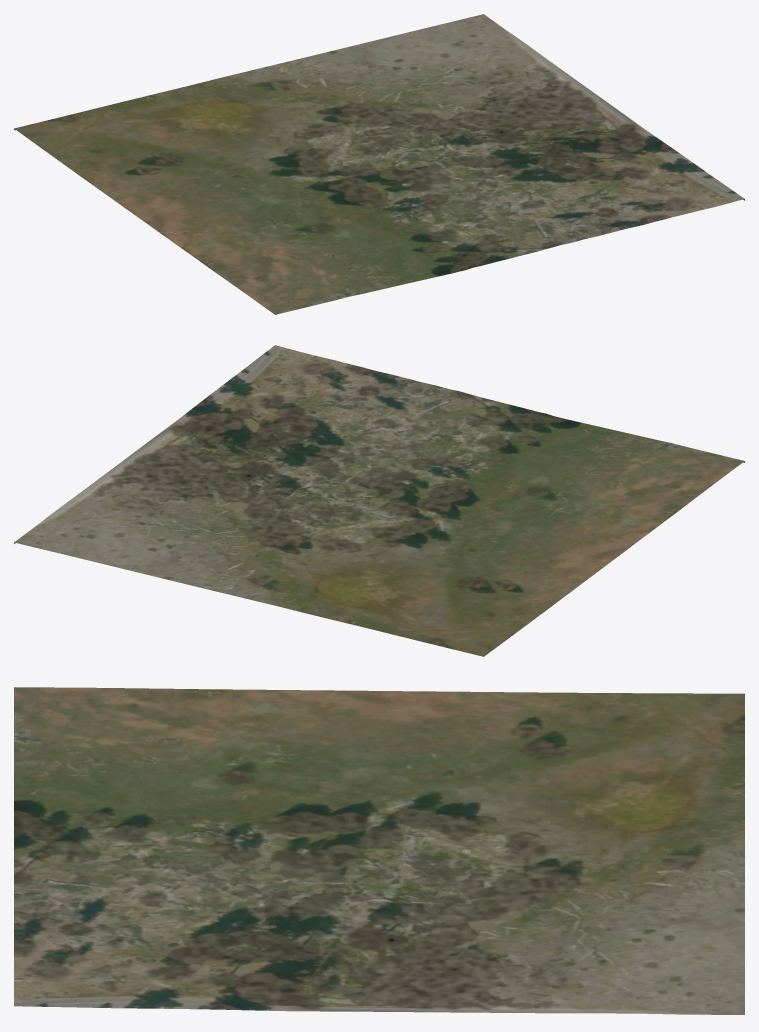
3 views of the same model, one above another, from view 1: azimuth 30°, elevation 25°; view 2: azimuth 150°, elevation 25°; view 3: azimuth 270°, elevation 25° (orthographic). The views are drawn at different scales.
Size of the model in its own units: 250 by 4.17 by 241.
1 material, 1 textured.
